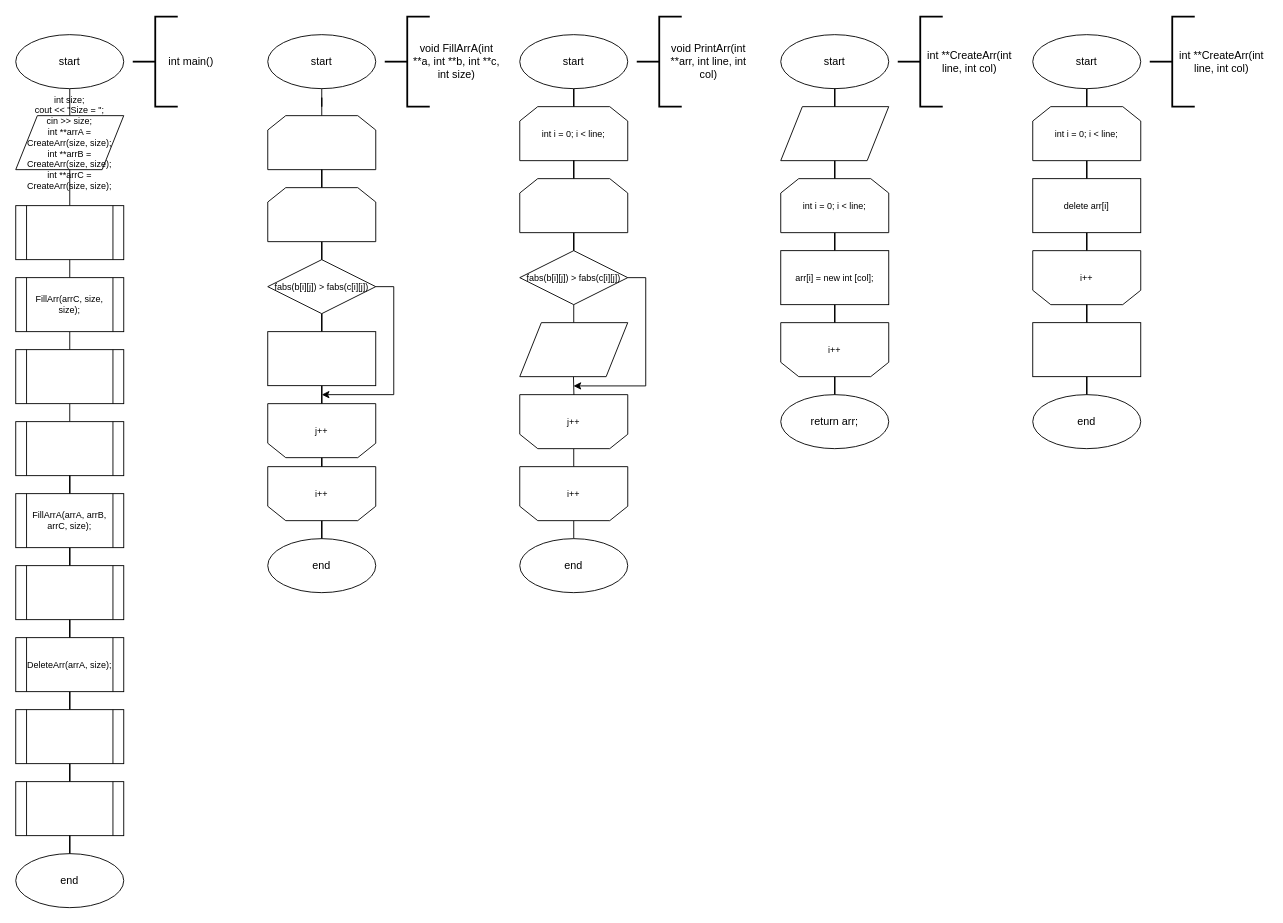
This 1283x923 diagram has some shape labels left out. Here are the shapes that lost their labels. From the top down, the centre of each, then its label:
point (321, 142): int i = 0; i < size;
point (834, 133): int **arr = new int *[line];
point (321, 214): int j = 0; j < size;
point (573, 205): int j = 0; j < col
point (69, 232): FillArr(arrB, size, size);
point (321, 358): a[i][j] = b[i][j];
point (573, 349): cout << arr[i][j] << '\t';
point (1086, 349): delete []arr;
point (69, 376): PrintArr(arrB, size, size);
point (69, 448): PrintArr(arrC, size, size);
point (69, 592): PrintArr(arrA, size, size);
point (69, 736): DeleteArr(arrB, size);
point (69, 808): DeleteArr(arrC, size);
